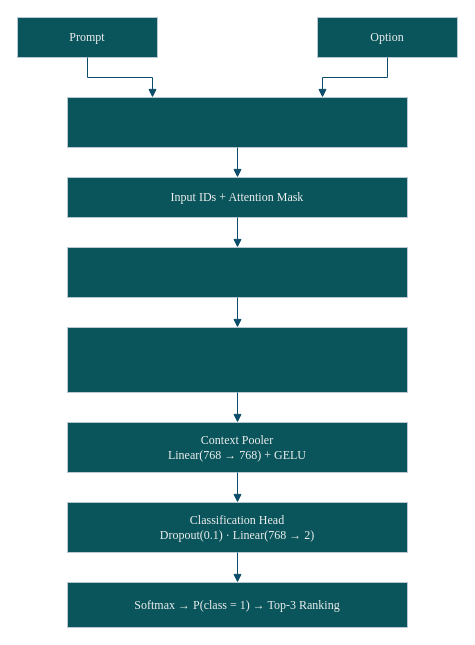
Image size: 475x645. Some labels were removed from this diagram. The shapes that lost their labels are listed below. From the top down, each one's centre as x and y in pixels, then its label:
At (237,122): "DeBERTa Tokenizer Sentence-pair encoding · max_length = 256".
At (237,272): "Embedding Layer 768-d + relative position embeddings".
At (237,359): "Transformer Encoder DeBERTa-v3-small 6 layers × hidden 768 · 12 heads · FFN 3072".
